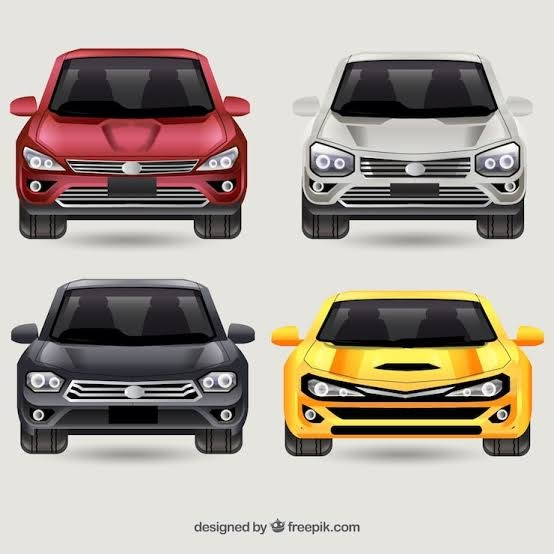car: (15, 46, 245, 236), (280, 299, 543, 460), (15, 278, 248, 452)
